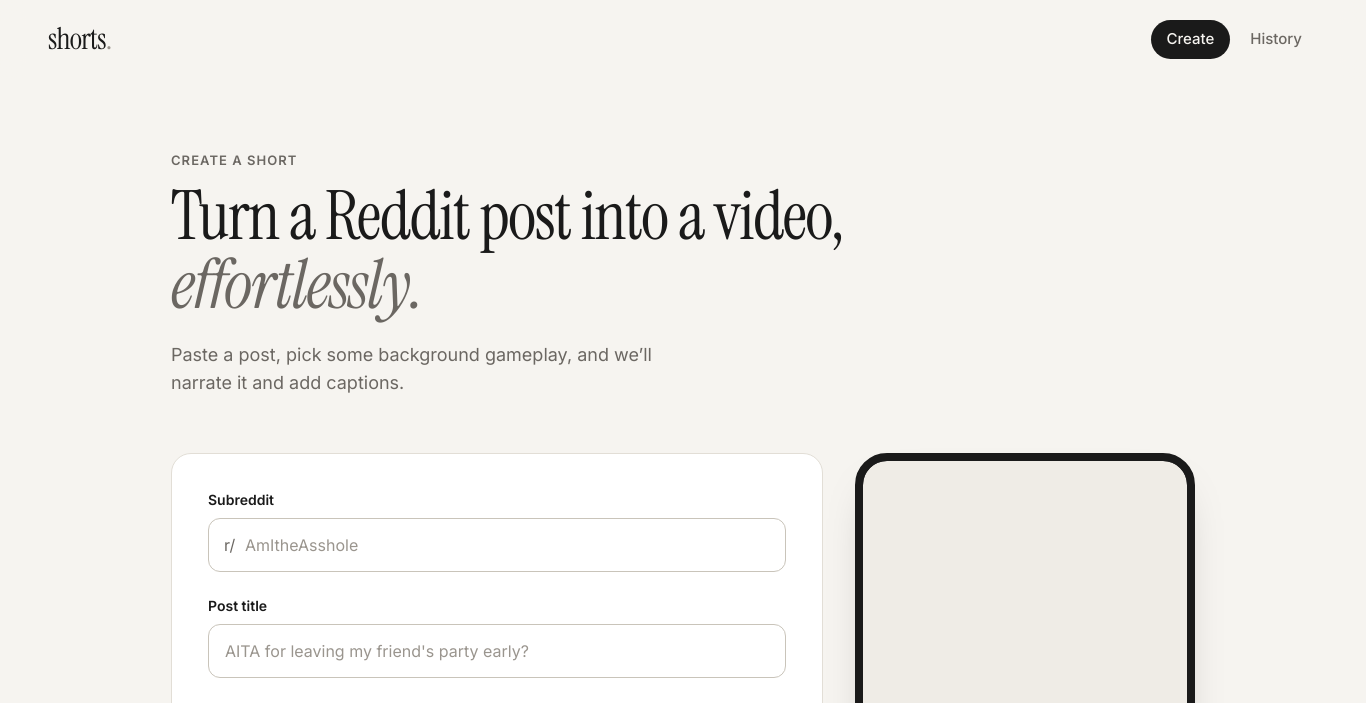
Scenario: editing › counts words and estimates narration length
Type "One two" into the field labelled "Post title" at (497, 651), box [208, 624, 786, 678]
(page scrolled)
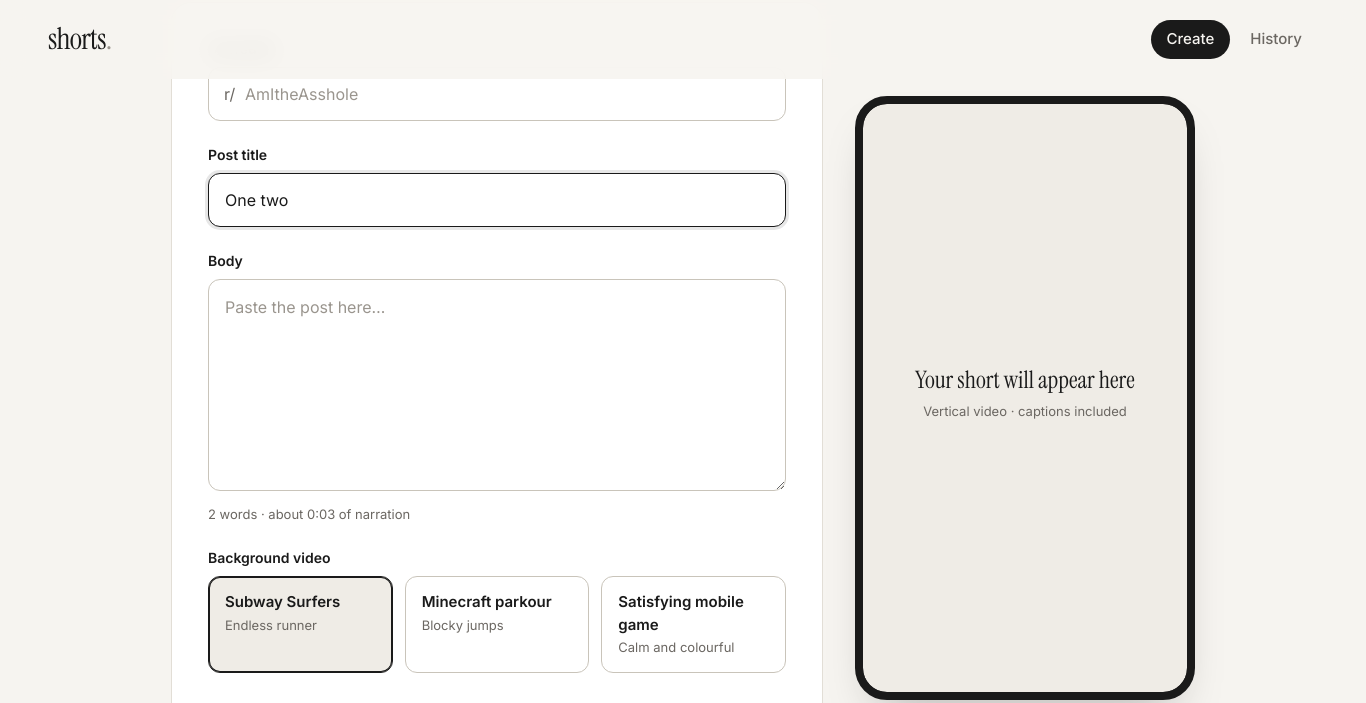
Type "three four five" into the text box labelled "Body" at (497, 385), box [208, 279, 786, 491]
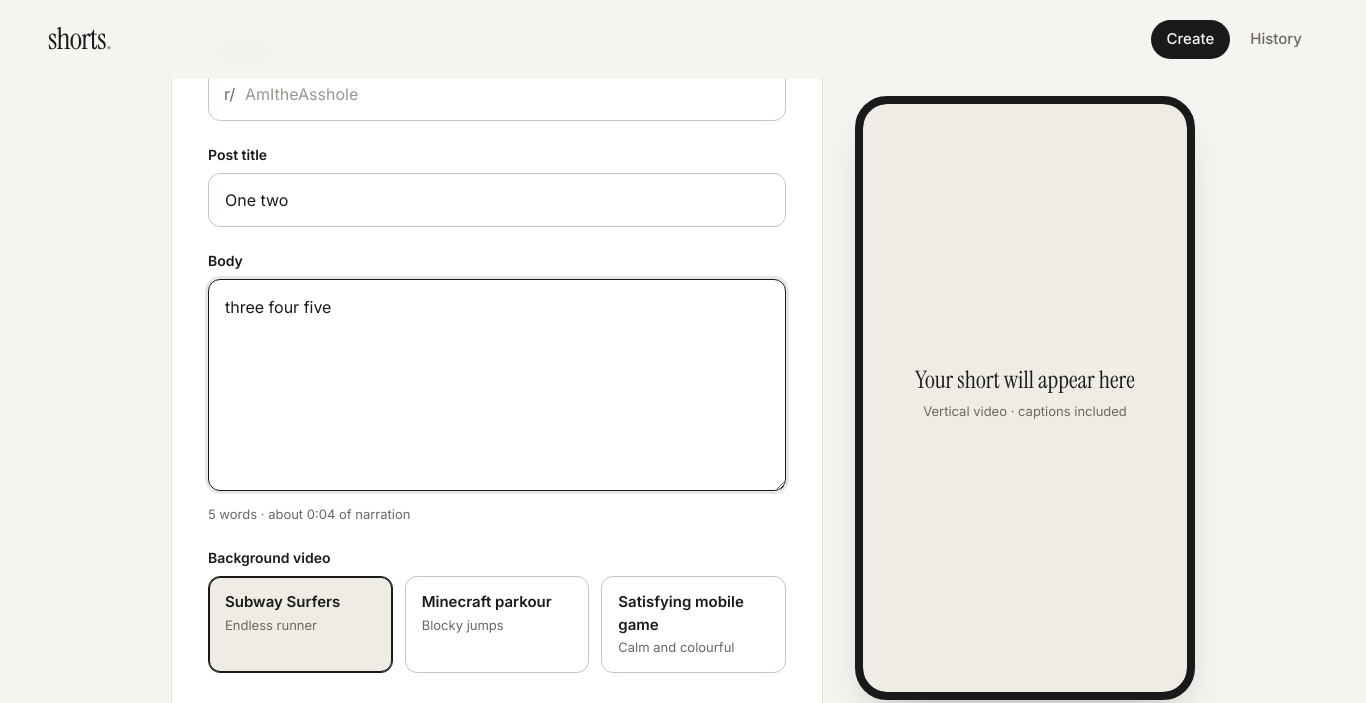
Expected: the text "5 words · about 0:04 of narration" is shown, [208, 506, 410, 522]
